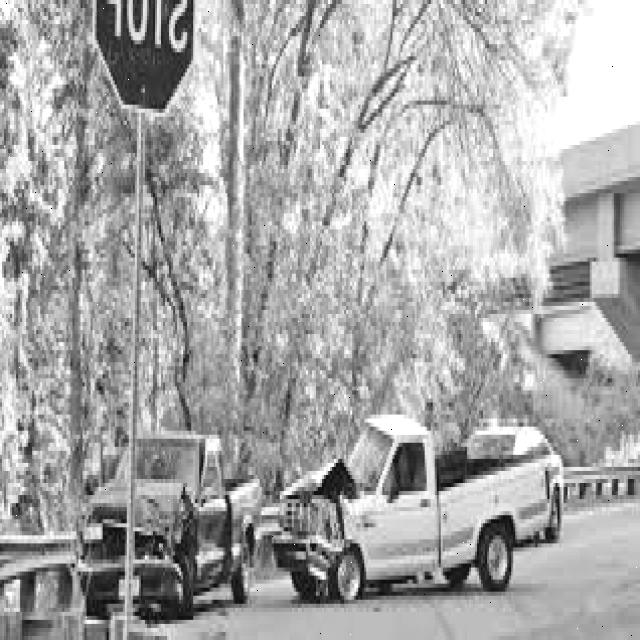stop sign: (96, 0, 194, 117)
